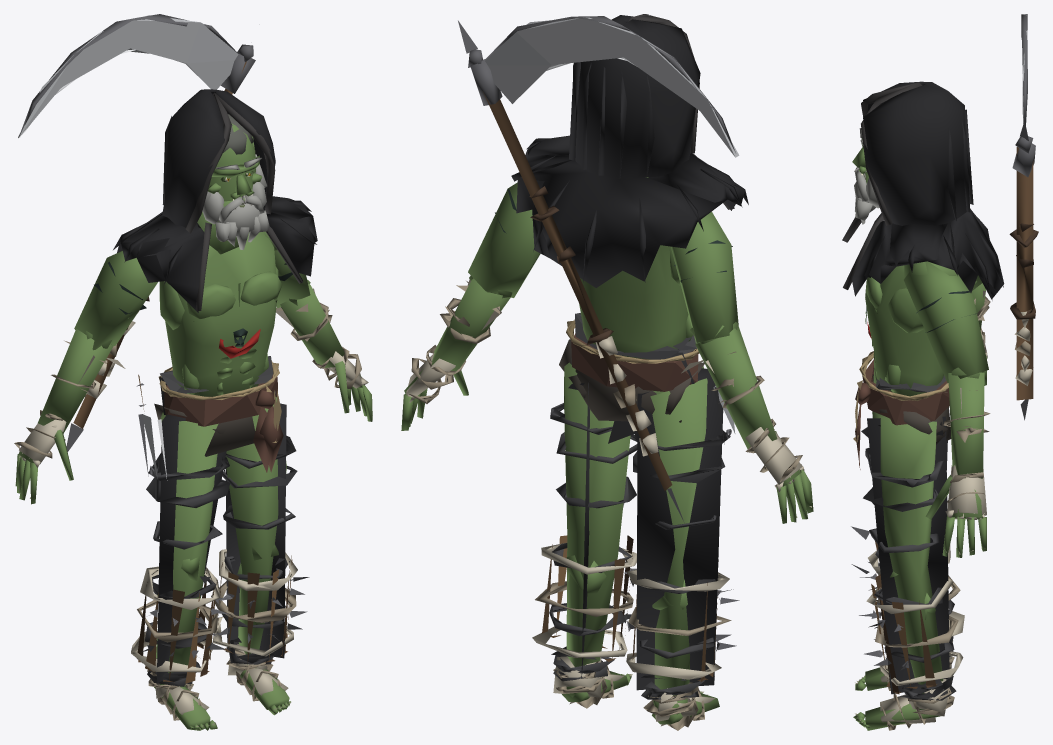
File: undead_heavy.glb
3 views of the same model, side by side, from view 1: azimuth 30°, elevation 25°; view 2: azimuth 150°, elevation 25°; view 3: azimuth 270°, elevation 25° (orthographic). The views are drawn at different scales.
Visible parts, largest first — view 1: undead_heavy__OW_Char_Grimm_Body_Torso_d, undead_heavy__OW_Armor_GrimmReaper_01_Legs_d, undead_heavy__OW_Char_Grimm_Body_Legs_d, undead_heavy__OW_Armor_GrimmReaper_01_Feet_d, undead_heavy__OW_Char_Grimm_Body_Arms_d, undead_heavy__OW_Armor_GrimmReaper_01_Back_d, undead_heavy__OW_Armor_GrimmReaper_01_Head_d, undead_heavy__OW_Armor_GrimmReaper_01_Shoulders_d, undead_heavy__OW_Char_Grimm_Body_Head_d, undead_heavy__OW_Armor_GrimmReaper_01_Chest_d, undead_heavy__OW_Char_Grimm_Body_Hands_d, undead_heavy__OW_Armor_GrimmReaper_01_Hands_d (+3 smaller); view 2: undead_heavy__OW_Char_Grimm_Body_Legs_d, undead_heavy__OW_Armor_GrimmReaper_01_Legs_d, undead_heavy__OW_Armor_GrimmReaper_01_Shoulders_d, undead_heavy__OW_Armor_GrimmReaper_01_Back_d, undead_heavy__OW_Char_Grimm_Body_Arms_d, undead_heavy__OW_Armor_GrimmReaper_01_Head_d, undead_heavy__OW_Armor_GrimmReaper_01_Feet_d, undead_heavy__OW_Char_Grimm_Body_Torso_d, undead_heavy__OW_Armor_GrimmReaper_01_Chest_d, undead_heavy__OW_Armor_GrimmReaper_01_Hands_d, undead_heavy__OW_Char_Grimm_Body_Hands_d, undead_heavy__OW_Armor_GrimmReaper_01_Arms_d (+1 smaller); view 3: undead_heavy__OW_Armor_GrimmReaper_01_Head_d, undead_heavy__OW_Char_Grimm_Body_Legs_d, undead_heavy__OW_Char_Grimm_Body_Arms_d, undead_heavy__OW_Armor_GrimmReaper_01_Legs_d, undead_heavy__OW_Armor_GrimmReaper_01_Shoulders_d, undead_heavy__OW_Char_Grimm_Body_Torso_d, undead_heavy__OW_Armor_GrimmReaper_01_Feet_d, undead_heavy__OW_Armor_GrimmReaper_01_Back_d, undead_heavy__OW_Armor_GrimmReaper_01_Chest_d, undead_heavy__OW_Char_Grimm_Body_Hands_d, undead_heavy__OW_Armor_GrimmReaper_01_Hands_d, undead_heavy__OW_Char_Grimm_Body_Feet_d (+2 smaller).
Part boxes in pixels (bbox=[...]): undead_heavy__OW_Char_Grimm_Body_Torso_d: bbox=[159, 232, 282, 396]; undead_heavy__OW_Armor_GrimmReaper_01_Legs_d: bbox=[144, 356, 297, 686]; undead_heavy__OW_Char_Grimm_Body_Legs_d: bbox=[154, 391, 286, 672]; undead_heavy__OW_Armor_GrimmReaper_01_Feet_d: bbox=[131, 549, 309, 720]; undead_heavy__OW_Char_Grimm_Body_Arms_d: bbox=[38, 231, 344, 433]; undead_heavy__OW_Armor_GrimmReaper_01_Back_d: bbox=[18, 14, 255, 451]; undead_heavy__OW_Armor_GrimmReaper_01_Head_d: bbox=[162, 89, 275, 233]; undead_heavy__OW_Armor_GrimmReaper_01_Shoulders_d: bbox=[113, 196, 317, 312]; undead_heavy__OW_Char_Grimm_Body_Head_d: bbox=[197, 114, 269, 254]; undead_heavy__OW_Armor_GrimmReaper_01_Chest_d: bbox=[158, 361, 283, 472]; undead_heavy__OW_Char_Grimm_Body_Hands_d: bbox=[15, 361, 372, 504]; undead_heavy__OW_Armor_GrimmReaper_01_Hands_d: bbox=[14, 347, 368, 467]; undead_heavy__OW_Char_Grimm_Body_Legs_d: bbox=[559, 339, 707, 695]; undead_heavy__OW_Armor_GrimmReaper_01_Legs_d: bbox=[549, 313, 730, 699]; undead_heavy__OW_Armor_GrimmReaper_01_Shoulders_d: bbox=[511, 135, 748, 287]; undead_heavy__OW_Armor_GrimmReaper_01_Back_d: bbox=[458, 16, 739, 522]; undead_heavy__OW_Char_Grimm_Body_Arms_d: bbox=[431, 182, 777, 448]; undead_heavy__OW_Armor_GrimmReaper_01_Head_d: bbox=[569, 14, 700, 178]; undead_heavy__OW_Armor_GrimmReaper_01_Feet_d: bbox=[532, 503, 739, 730]; undead_heavy__OW_Char_Grimm_Body_Torso_d: bbox=[579, 245, 692, 359]; undead_heavy__OW_Armor_GrimmReaper_01_Chest_d: bbox=[566, 319, 699, 391]; undead_heavy__OW_Armor_GrimmReaper_01_Hands_d: bbox=[406, 345, 804, 491]; undead_heavy__OW_Char_Grimm_Body_Hands_d: bbox=[401, 369, 813, 523]; undead_heavy__OW_Armor_GrimmReaper_01_Arms_d: bbox=[440, 279, 764, 408]; undead_heavy__OW_Armor_GrimmReaper_01_Head_d: bbox=[861, 81, 973, 225]; undead_heavy__OW_Char_Grimm_Body_Legs_d: bbox=[872, 374, 951, 693]; undead_heavy__OW_Char_Grimm_Body_Arms_d: bbox=[904, 261, 988, 478]; undead_heavy__OW_Armor_GrimmReaper_01_Legs_d: bbox=[861, 375, 956, 700]; undead_heavy__OW_Armor_GrimmReaper_01_Shoulders_d: bbox=[842, 208, 1004, 300]; undead_heavy__OW_Char_Grimm_Body_Torso_d: bbox=[865, 265, 943, 396]; undead_heavy__OW_Armor_GrimmReaper_01_Feet_d: bbox=[851, 526, 964, 730]; undead_heavy__OW_Armor_GrimmReaper_01_Back_d: bbox=[1009, 14, 1038, 420]; undead_heavy__OW_Armor_GrimmReaper_01_Chest_d: bbox=[853, 351, 949, 469]; undead_heavy__OW_Char_Grimm_Body_Hands_d: bbox=[925, 356, 986, 557]; undead_heavy__OW_Armor_GrimmReaper_01_Hands_d: bbox=[945, 328, 987, 520]; undead_heavy__OW_Char_Grimm_Body_Feet_d: bbox=[853, 667, 941, 730].
Size of the model in its own units: 1.43 by 2.55 by 0.6797.
